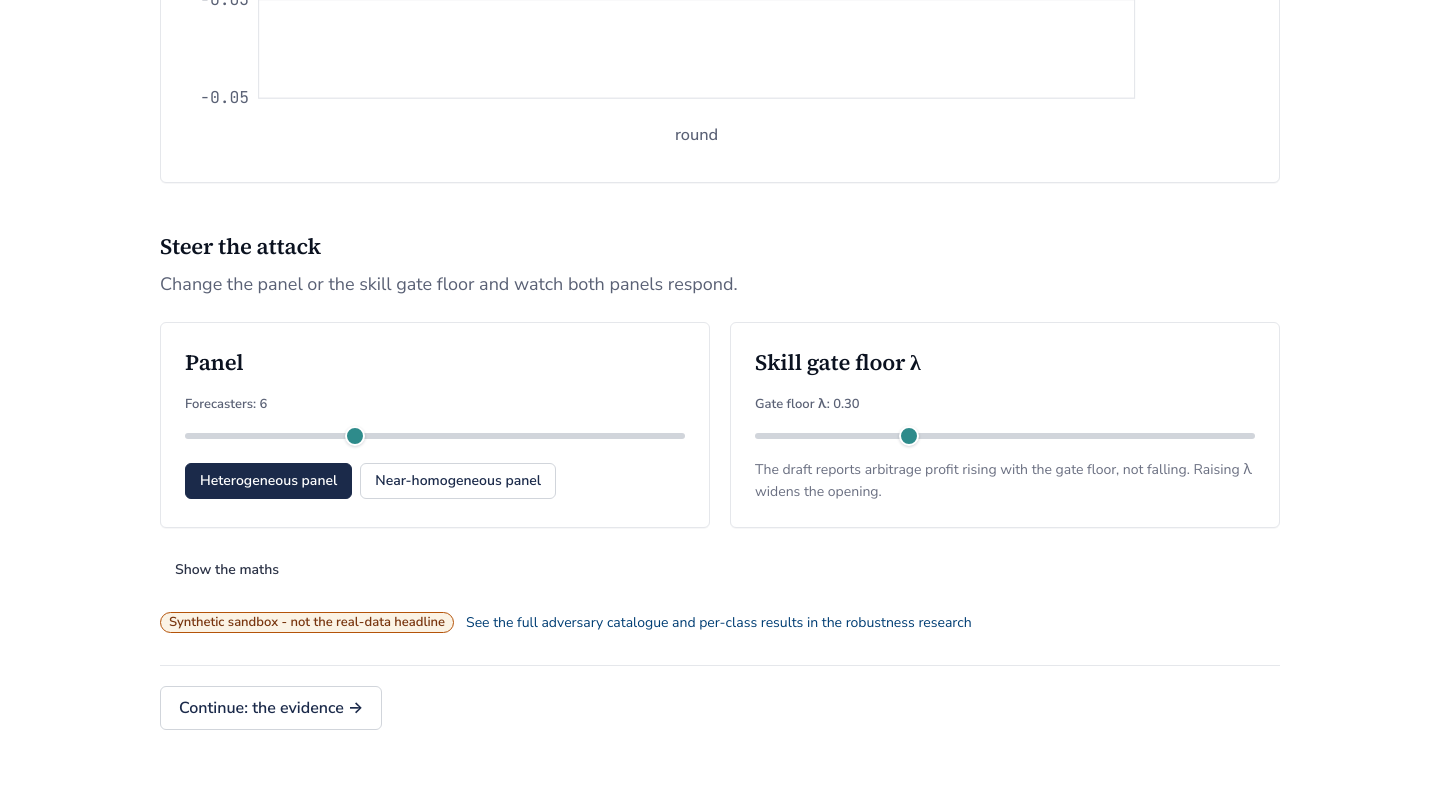
Test: platform — stress (attacks) page › keeps the maths out of the default view behind an opt-in affordance
(page scrolled)
Expected: the text "m_i = b_i" is not shown
Click the button with test id "show-maths-toggle".
click(227, 570)  # box [160, 552, 294, 588]
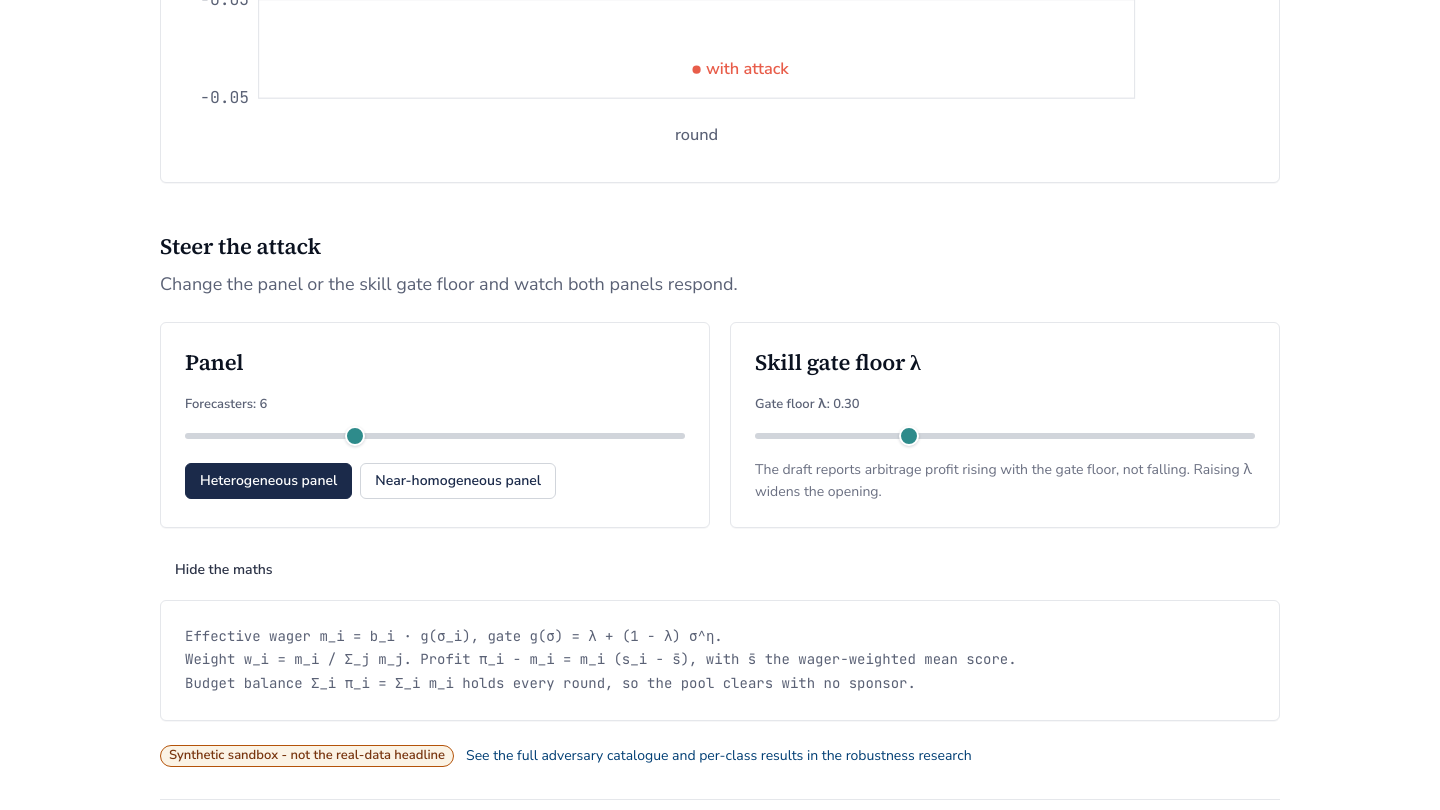
Expected: the text "m_i = b_i" is shown, [185, 626, 723, 644]
